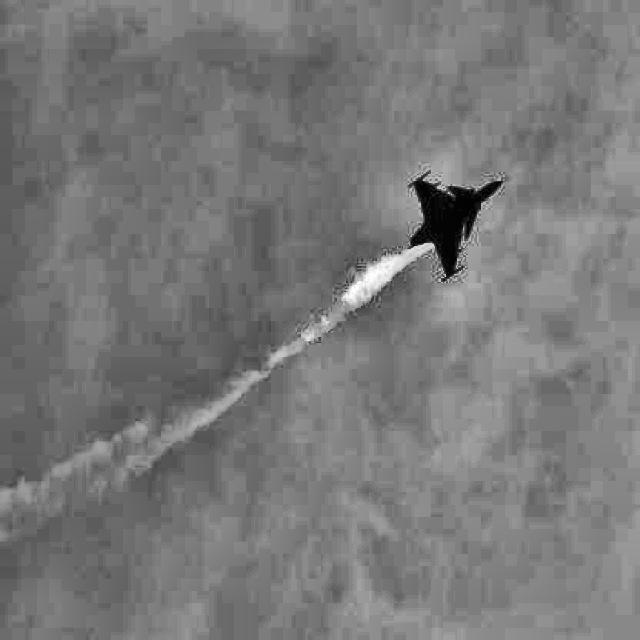JAS39: (408, 170, 509, 282)
